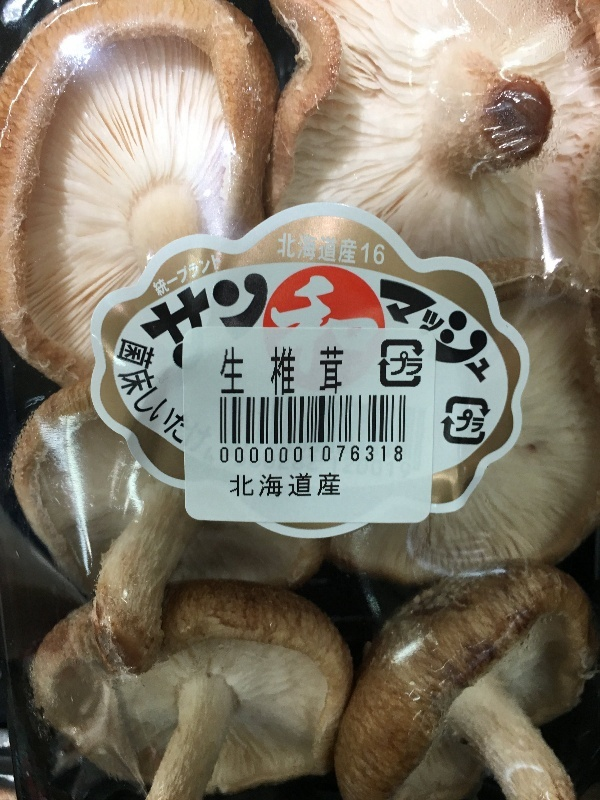text: (161, 335, 176, 481), (129, 252, 144, 376), (145, 252, 160, 376), (161, 252, 176, 376), (177, 252, 192, 376), (193, 252, 208, 376), (209, 252, 224, 376), (225, 252, 240, 376), (241, 252, 256, 376), (257, 252, 272, 376), (385, 273, 400, 393), (401, 273, 416, 393), (417, 273, 432, 393), (433, 273, 448, 393), (449, 273, 464, 393), (465, 273, 480, 393), (481, 273, 496, 393), (148, 335, 160, 481), (177, 335, 189, 481), (273, 274, 288, 334), (289, 274, 304, 334), (305, 274, 320, 334), (321, 274, 336, 334), (337, 274, 352, 334), (353, 274, 368, 334), (497, 273, 504, 393), (161, 248, 176, 302), (177, 248, 192, 302), (193, 248, 208, 302), (225, 346, 240, 397), (241, 346, 256, 397), (257, 346, 272, 397), (273, 346, 288, 397), (289, 346, 304, 397), (305, 346, 320, 397), (321, 346, 336, 397), (209, 248, 222, 302), (289, 230, 304, 272), (305, 230, 320, 272), (321, 230, 336, 272), (337, 230, 352, 272), (353, 230, 368, 272), (369, 230, 384, 272), (369, 274, 379, 334), (150, 248, 160, 302), (380, 273, 384, 393), (241, 470, 256, 499), (257, 470, 272, 499), (273, 470, 288, 499), (289, 470, 304, 499), (305, 470, 320, 499), (321, 470, 336, 499), (401, 350, 416, 379), (278, 230, 288, 272), (465, 408, 480, 436), (337, 346, 345, 397), (225, 444, 240, 467), (241, 444, 256, 467), (257, 444, 272, 467), (273, 444, 288, 467), (289, 444, 304, 467), (305, 444, 320, 467), (321, 444, 336, 467), (337, 444, 352, 467), (353, 444, 368, 467), (369, 444, 384, 467), (385, 444, 400, 467), (230, 470, 240, 499), (391, 350, 400, 379), (417, 350, 424, 379), (457, 408, 464, 436), (337, 470, 342, 499), (219, 444, 224, 467), (481, 408, 485, 436), (222, 346, 224, 397), (385, 230, 387, 272), (401, 444, 404, 467), (271, 274, 272, 334)
